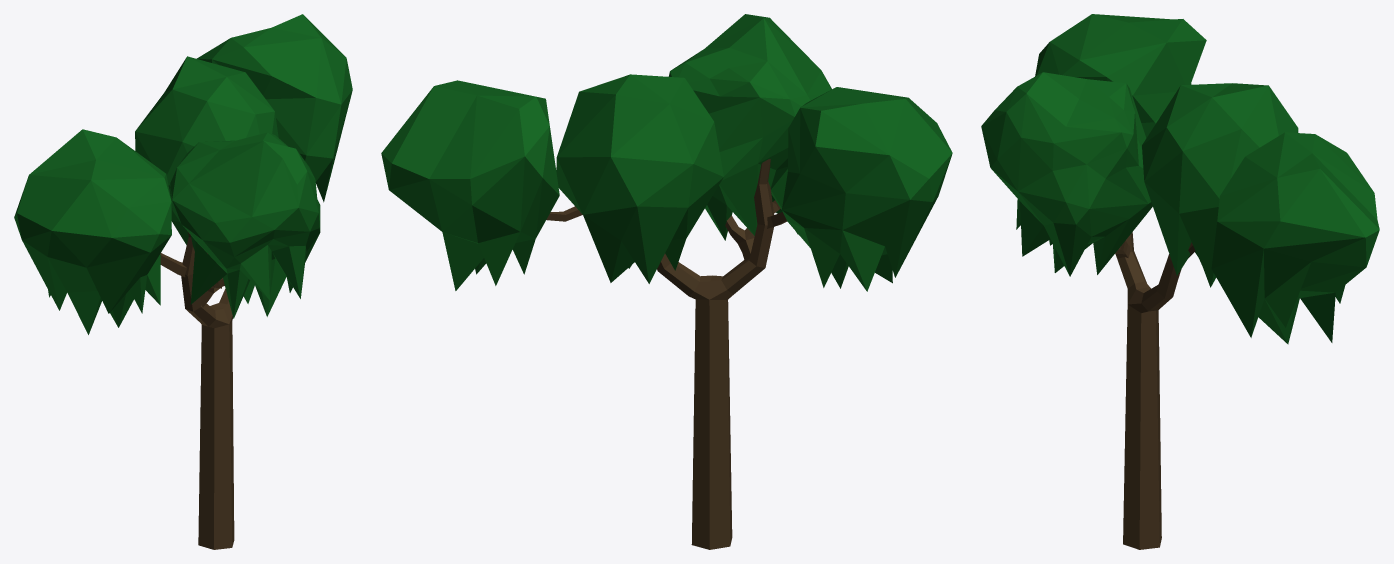
Rendered from WillowTree.fbx.
3 views of the same model, side by side, from view 1: azimuth 30°, elevation 25°; view 2: azimuth 150°, elevation 25°; view 3: azimuth 270°, elevation 25° (orthographic). The views are drawn at different scales.
Parts seen in each view (by area): view 1: WillowTree; view 2: WillowTree; view 3: WillowTree.
Part boxes in pixels (x1=…): WillowTree: x1=14, y1=14, x2=352, y2=549; WillowTree: x1=381, y1=14, x2=952, y2=549; WillowTree: x1=981, y1=14, x2=1379, y2=549.
Size of the model in its own units: 184 by 196 by 150.
